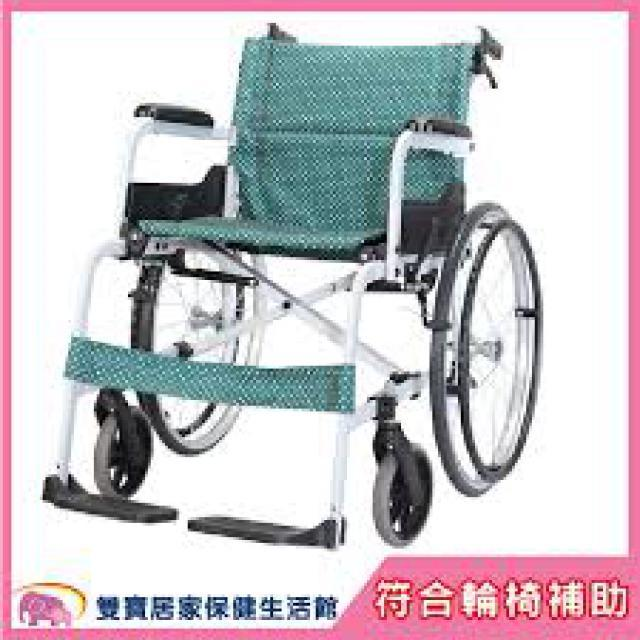wheelchair: (34, 9, 563, 558)
